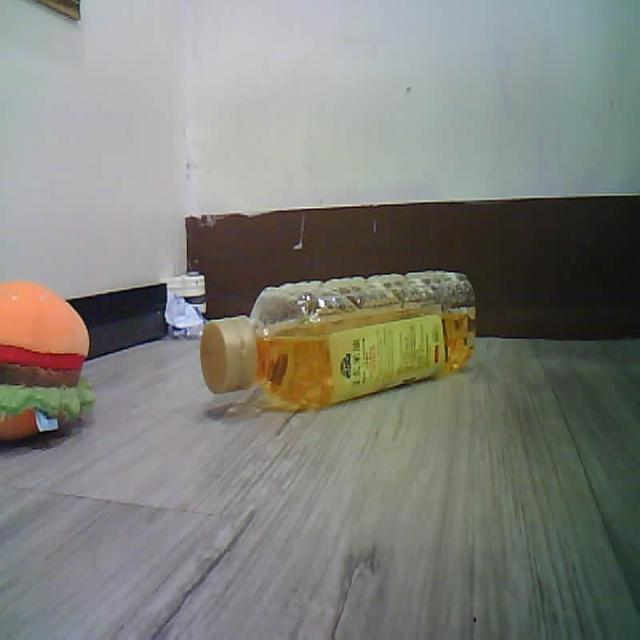bottle: (201, 271, 474, 406)
